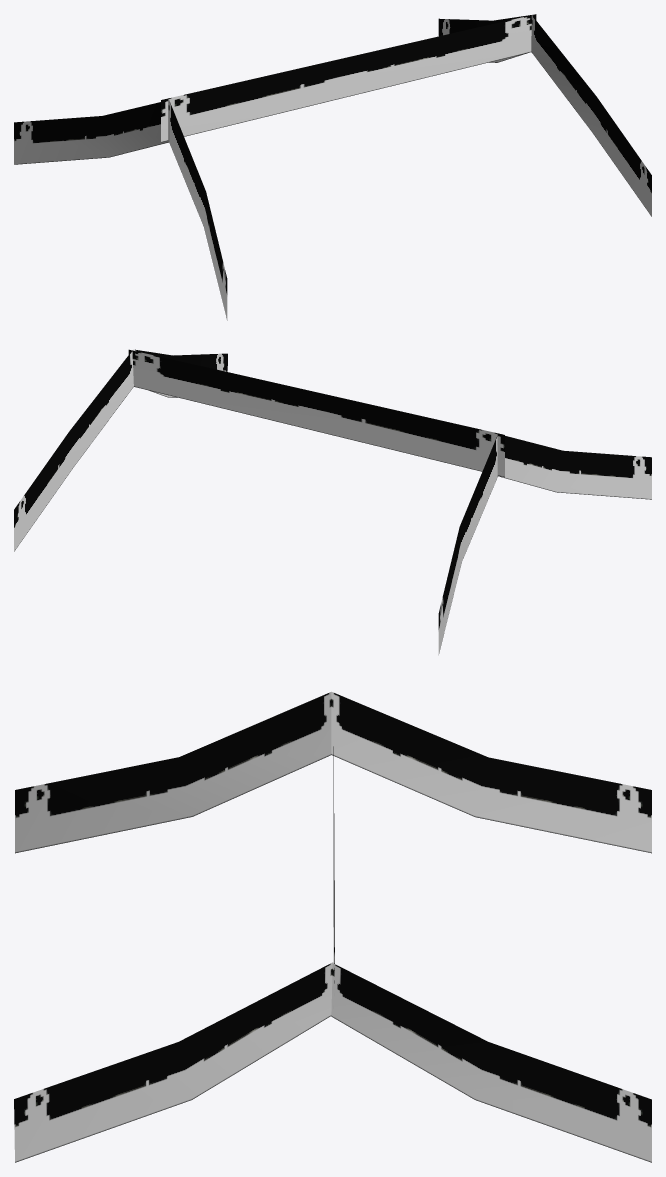
3 renders of one model, top to bottom at view 1: azimuth 30°, elevation 25°; view 2: azimuth 150°, elevation 25°; view 3: azimuth 270°, elevation 25°, orthographic. The views are drawn at different scales.
Visible parts, largest first — view 1: wy12; view 2: wy12; view 3: wy12.
Boxes of the visible parts, x1,y1,x2,y2 form: wy12: [14, 14, 651, 320]; wy12: [14, 349, 651, 654]; wy12: [14, 691, 651, 1162].
Bounding box in the file's own units: 343 × 103 × 299.
